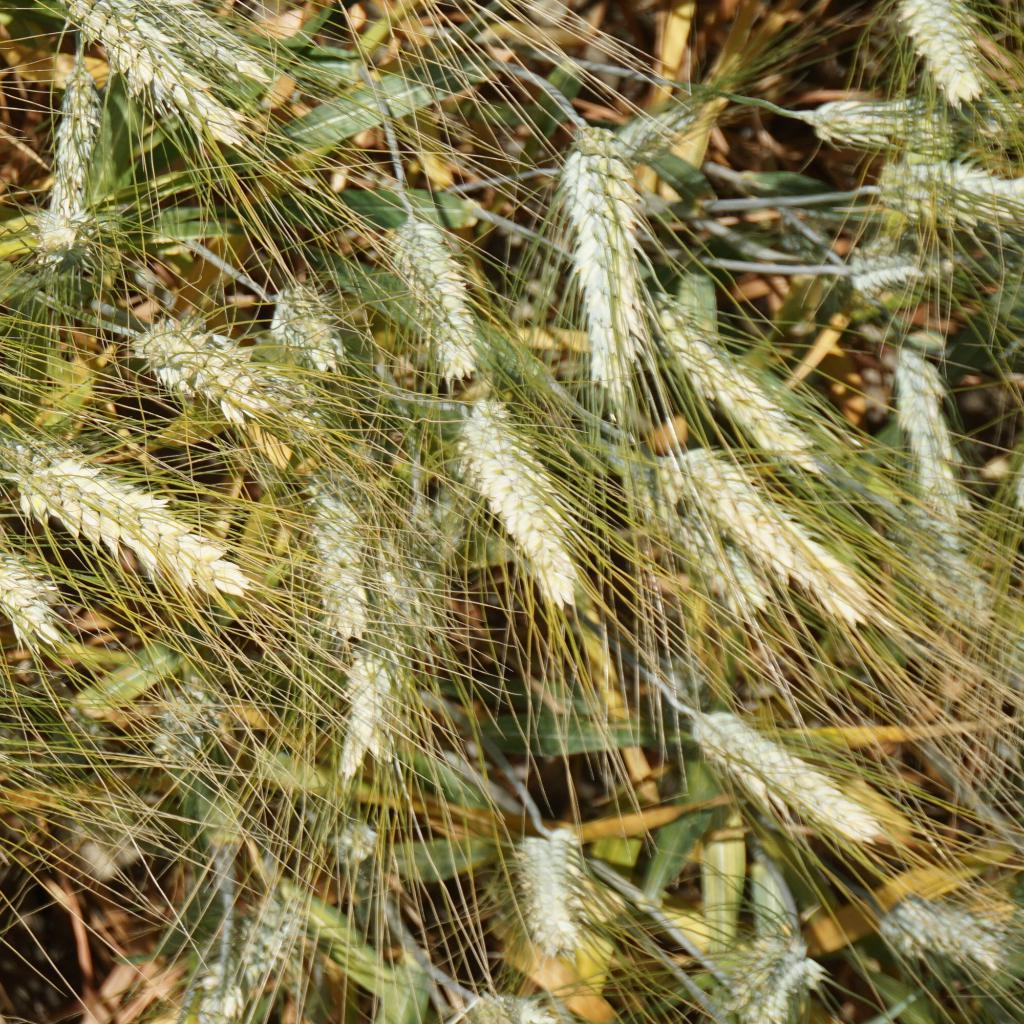0-0: (2, 449, 268, 616), (456, 388, 596, 646), (689, 707, 896, 856), (539, 123, 642, 411), (689, 453, 870, 606), (889, 334, 992, 602), (51, 0, 222, 155), (646, 305, 819, 453), (379, 179, 478, 376), (125, 303, 279, 425), (637, 472, 752, 616), (539, 90, 716, 182), (23, 49, 112, 212), (494, 817, 586, 961), (305, 466, 379, 644), (709, 919, 828, 1024), (835, 210, 968, 299), (0, 472, 69, 637), (876, 888, 1008, 968), (0, 417, 110, 513), (884, 151, 1019, 228), (130, 673, 230, 776), (114, 0, 248, 74), (797, 76, 933, 145), (889, 0, 988, 90), (336, 644, 407, 765), (240, 878, 309, 974), (265, 277, 330, 376), (376, 541, 427, 657), (328, 813, 374, 858)
